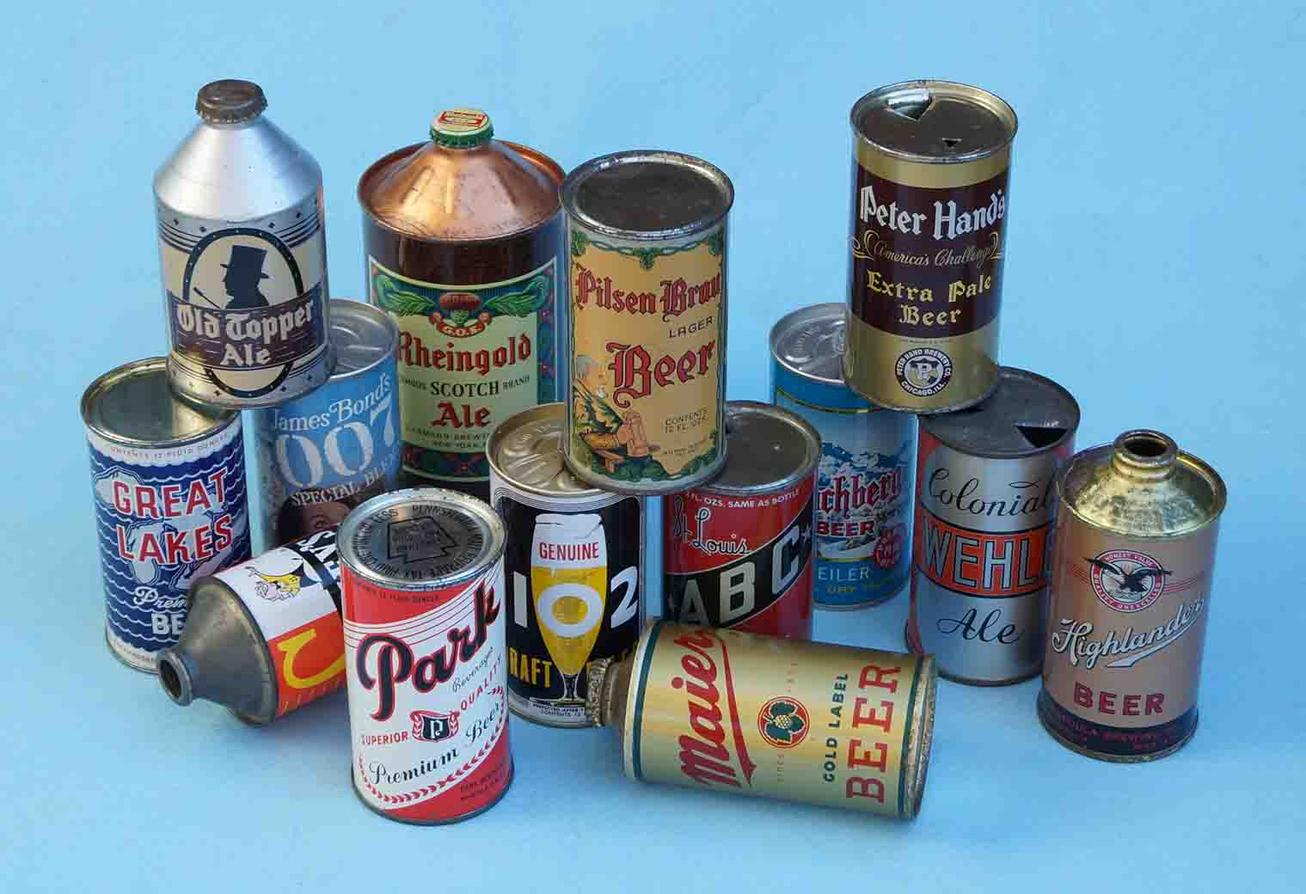cylinder: (357, 138, 566, 505), (622, 616, 936, 823), (557, 150, 734, 496), (1037, 443, 1227, 764), (335, 487, 514, 826), (838, 79, 1018, 413), (904, 366, 1080, 688), (80, 356, 253, 675), (485, 402, 647, 730), (769, 303, 917, 613), (153, 169, 338, 410), (660, 401, 821, 640), (253, 297, 399, 554), (187, 523, 348, 728)
